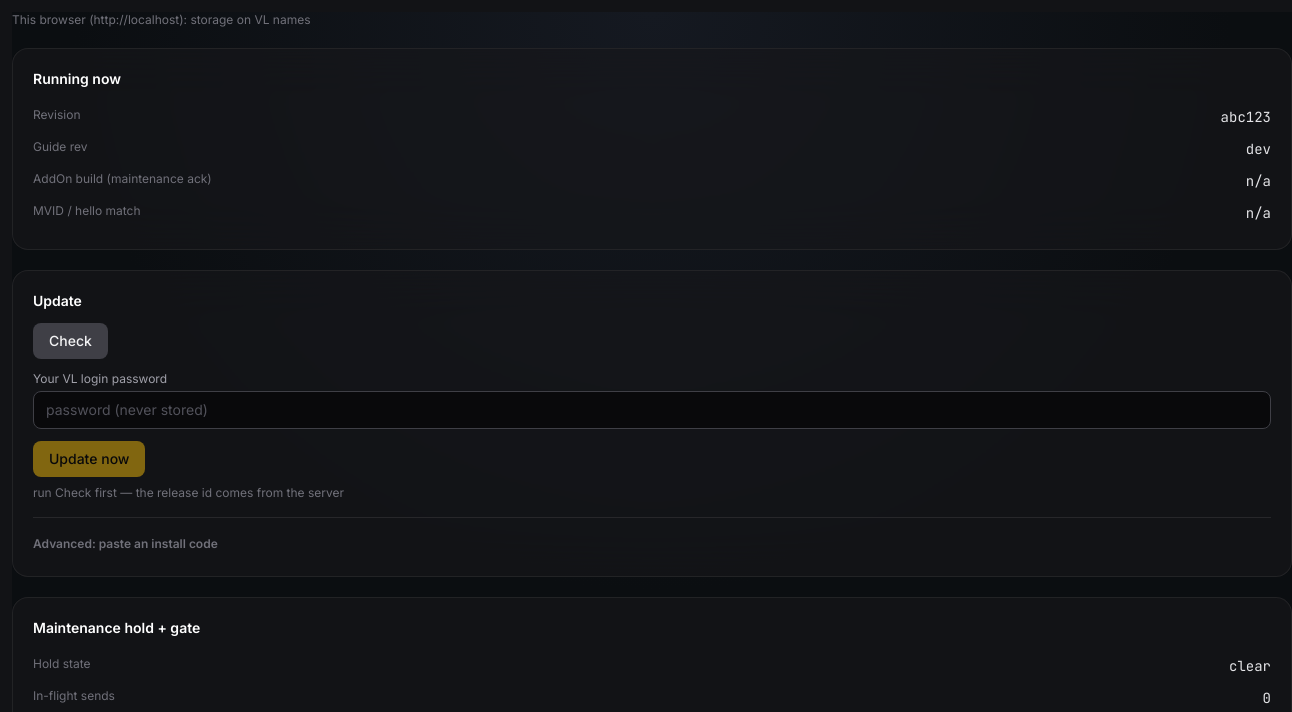
UpdatesPage › labels an available-but-not-ready check "Check again"
Expected: the button "Update now" is shown, [33,441,146,477]
Click the button with test id "check-button".
click(70, 341)  # box [33,323,108,359]
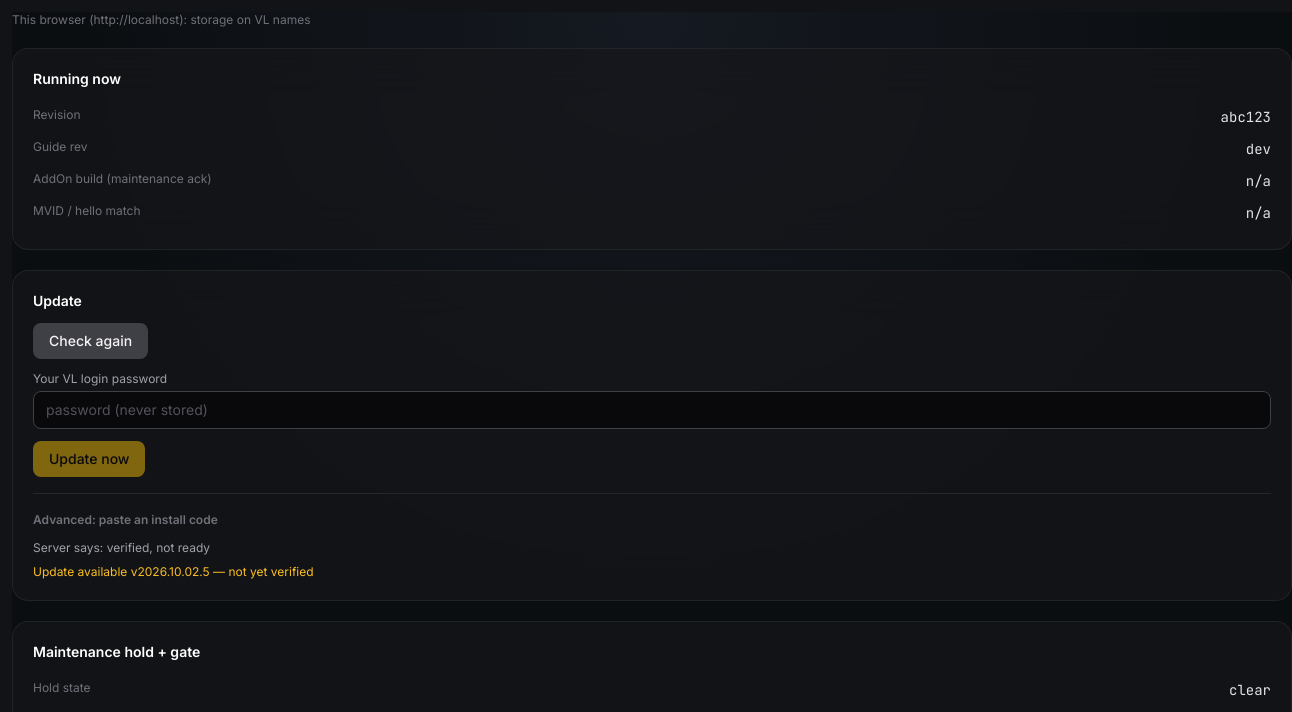
Expected: the button with test id "check-button" reads "Check again", [33,323,148,359]
